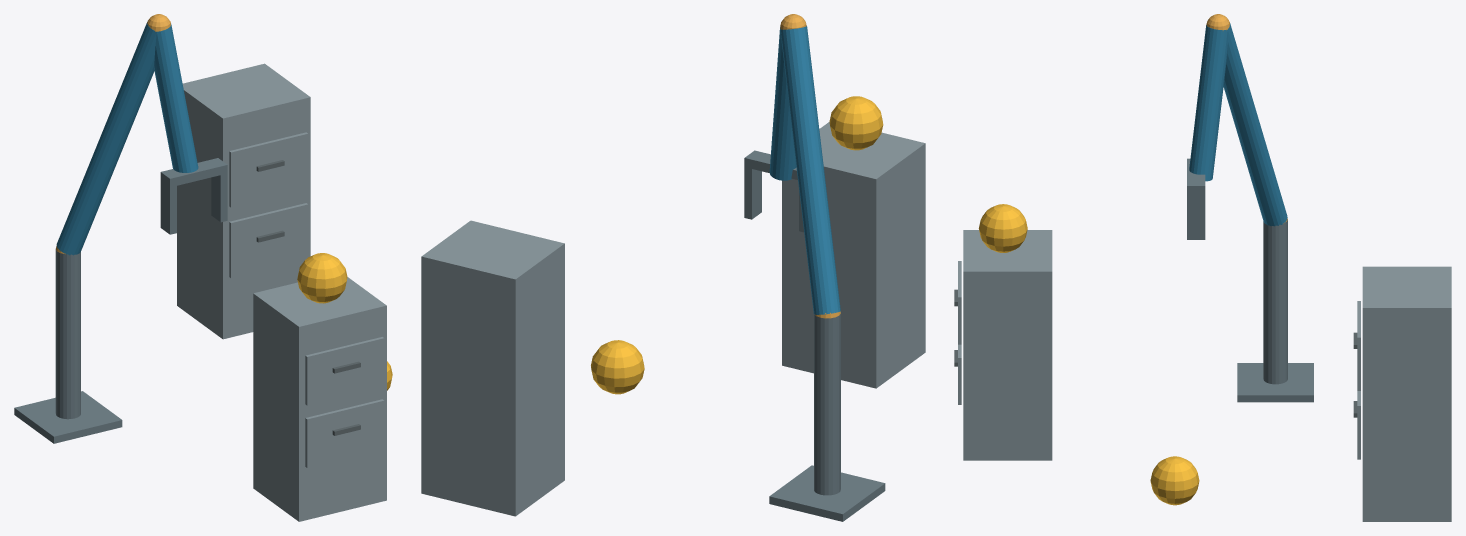
3 views of the same model, side by side, from view 1: azimuth 30°, elevation 25°; view 2: azimuth 150°, elevation 25°; view 3: azimuth 270°, elevation 25° (orthographic). The views are drawn at different scales.
Parts seen in each view (by area): view 1: cabinet_1 body, cabinet_2 body, moving link 1, cabinet_2 drawer front.001, cabinet_2 drawer front, fixed post, cabinet_1 drawer front, cabinet_1 drawer front.001, moving link 2, pedestal, released ball_1, gripper bridge (+2 smaller); view 2: cabinet_2 body, cabinet_1 body, moving link 1, fixed post, pedestal, released ball_1, ball ball_2, moving link 2, gripper finger 1; view 3: cabinet_2 body, cabinet_1 body, moving link 1, fixed post, moving link 2, pedestal, ball ball_2, released ball_1, gripper finger 1.
Part boxes in pixels (bbox=[...]): cabinet_1 body: bbox=[253, 277, 386, 521]; cabinet_2 body: bbox=[177, 63, 310, 339]; moving link 1: bbox=[56, 22, 156, 255]; cabinet_2 drawer front.001: bbox=[229, 132, 308, 207]; cabinet_2 drawer front: bbox=[229, 203, 308, 278]; fixed post: bbox=[55, 248, 80, 419]; cabinet_1 drawer front: bbox=[305, 399, 384, 467]; cabinet_1 drawer front.001: bbox=[305, 337, 384, 405]; moving link 2: bbox=[154, 24, 198, 172]; pedestal: bbox=[14, 391, 122, 443]; released ball_1: bbox=[297, 253, 347, 303]; gripper bridge: bbox=[160, 158, 227, 187]; cabinet_2 body: bbox=[421, 220, 564, 516]; cabinet_1 body: bbox=[782, 122, 925, 388]; moving link 1: bbox=[781, 26, 840, 314]; fixed post: bbox=[814, 312, 840, 495]; pedestal: bbox=[769, 465, 885, 521]; released ball_1: bbox=[829, 96, 883, 150]; ball ball_2: bbox=[591, 340, 644, 394]; moving link 2: bbox=[769, 27, 796, 180]; gripper finger 1: bbox=[744, 167, 761, 219]; cabinet_2 body: bbox=[1362, 266, 1451, 521]; cabinet_1 body: bbox=[963, 230, 1052, 460]; moving link 1: bbox=[1223, 22, 1287, 226]; fixed post: bbox=[1263, 220, 1287, 384]; moving link 2: bbox=[1189, 25, 1227, 181]; pedestal: bbox=[1237, 363, 1313, 402]; ball ball_2: bbox=[1150, 456, 1199, 505]; released ball_1: bbox=[978, 204, 1027, 252]; gripper finger 1: bbox=[1187, 194, 1205, 239].
Size of the model in its own units: 1.17 by 1.44 by 1.62.
